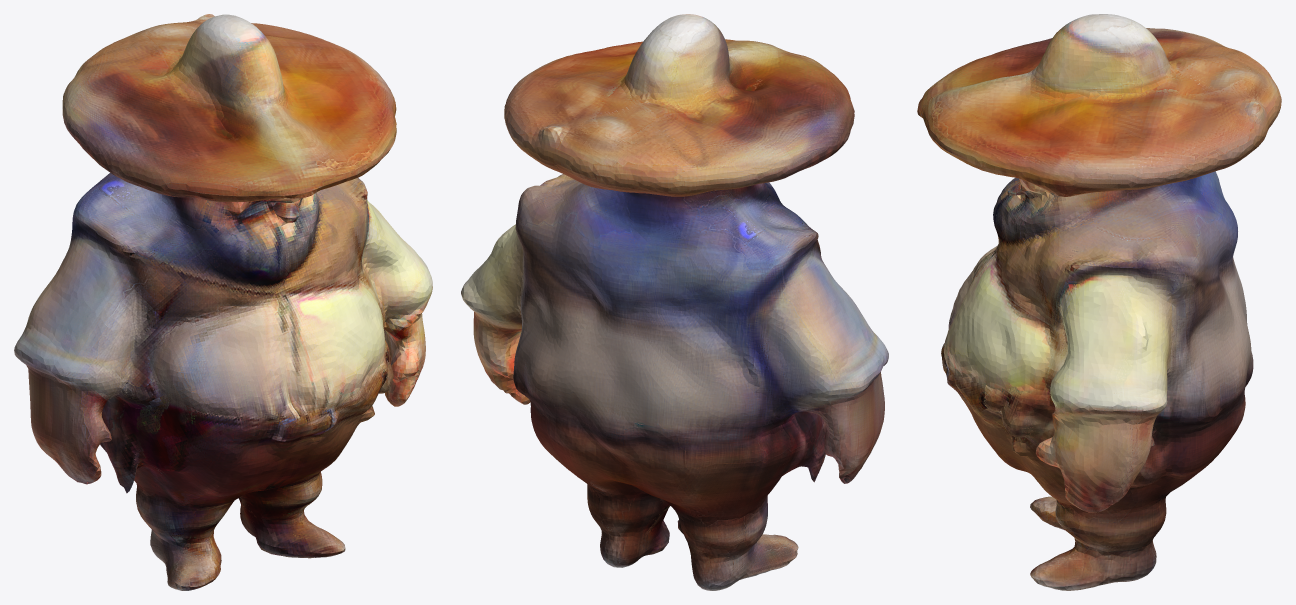
Rendered from sancho.glb.
The picture shows the model from 3 angles, left to right: view 1: azimuth 30°, elevation 25°; view 2: azimuth 150°, elevation 25°; view 3: azimuth 270°, elevation 25°; orthographic projection.
Bounding box in the file's own units: 1.07 × 1.4 × 0.8564.
Materials: 1 (1 with a texture image).
